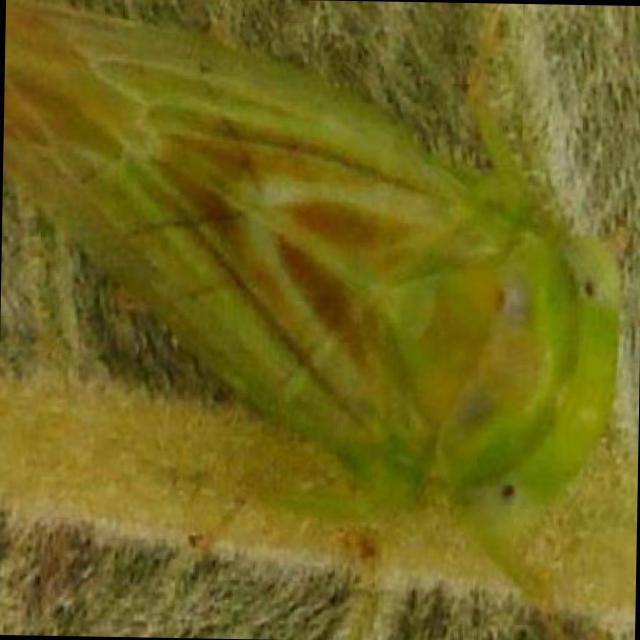green-leafhopper: (2, 0, 622, 624)
